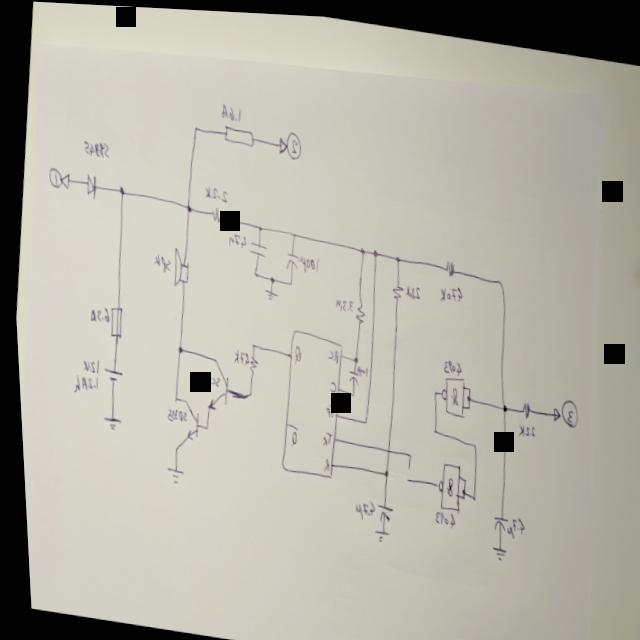capacitor: (369, 496, 389, 519), (244, 235, 265, 254), (485, 508, 503, 526), (280, 248, 297, 267), (342, 363, 355, 381)
crossover: (379, 440, 387, 453)
diode: (81, 168, 97, 198)
ground: (159, 462, 180, 483), (96, 410, 117, 431), (484, 538, 500, 555), (259, 284, 276, 298), (368, 523, 383, 538)
junction: (493, 270, 502, 284), (115, 181, 123, 194), (172, 340, 180, 352), (390, 248, 398, 259), (368, 242, 376, 253), (182, 199, 190, 210), (241, 385, 249, 396), (356, 240, 363, 250), (496, 397, 503, 406), (253, 219, 260, 228), (377, 463, 384, 472), (461, 388, 468, 397), (348, 350, 355, 358), (357, 412, 364, 420), (465, 487, 471, 496), (288, 225, 294, 234), (466, 435, 472, 444), (266, 271, 272, 279), (427, 420, 433, 428), (345, 385, 351, 393), (249, 266, 255, 273), (191, 121, 196, 129), (169, 392, 174, 400), (199, 420, 204, 428), (455, 482, 461, 488), (247, 338, 252, 345), (402, 445, 407, 452), (285, 275, 290, 282), (400, 470, 405, 477), (168, 442, 173, 449), (428, 384, 433, 390), (461, 398, 465, 404), (457, 471, 461, 477), (463, 380, 466, 385), (456, 489, 459, 493)
resistor: (220, 119, 253, 144), (206, 200, 224, 221), (350, 296, 363, 320), (387, 277, 401, 297), (515, 392, 527, 413), (440, 254, 453, 273), (243, 351, 255, 371)
source: (98, 363, 118, 380)
terminal: (57, 165, 70, 188), (274, 131, 286, 151), (546, 397, 557, 417)
text: (553, 386, 575, 423), (67, 370, 95, 396), (79, 134, 109, 158), (281, 125, 301, 158), (498, 507, 520, 535), (293, 248, 317, 272), (347, 492, 370, 517), (435, 277, 461, 298), (217, 98, 241, 119), (147, 247, 168, 271), (201, 180, 227, 199), (85, 301, 107, 322), (222, 226, 245, 246), (428, 504, 452, 522), (438, 351, 460, 370), (161, 403, 184, 421), (329, 291, 351, 309), (193, 367, 216, 384), (45, 163, 60, 188), (77, 354, 96, 373), (512, 414, 532, 432), (400, 277, 418, 295), (228, 344, 245, 362), (316, 425, 329, 443), (319, 397, 332, 415), (288, 339, 298, 361), (322, 343, 336, 358), (351, 359, 365, 373), (316, 451, 326, 469), (284, 425, 293, 444), (324, 374, 333, 389)
transistor: (200, 352, 228, 409), (173, 396, 198, 442)
